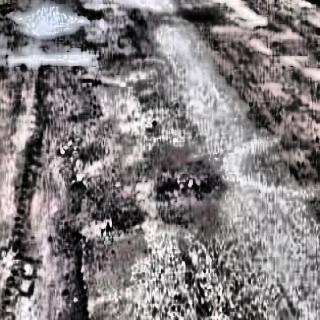crack: (0, 127, 56, 320), (59, 223, 95, 319), (149, 164, 219, 200)
pothole: (0, 0, 102, 40), (10, 48, 94, 76)
